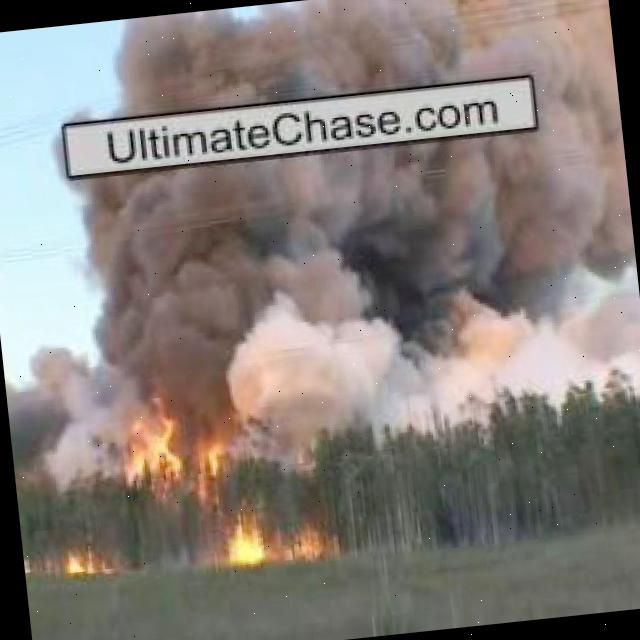fire: (112, 381, 184, 488), (225, 515, 265, 562), (193, 440, 224, 482), (63, 548, 99, 583), (294, 530, 328, 556)
